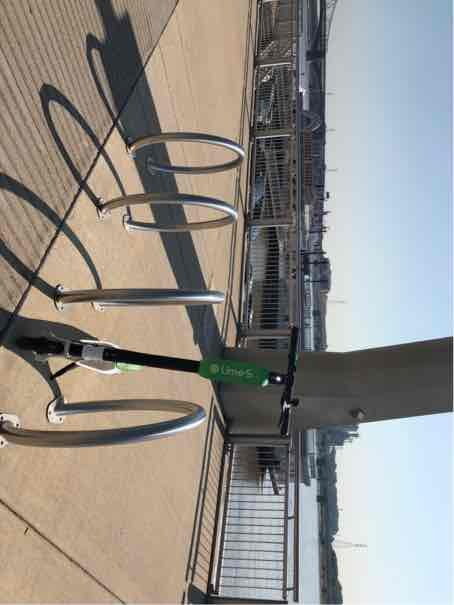scooter: (32, 320, 322, 442)
